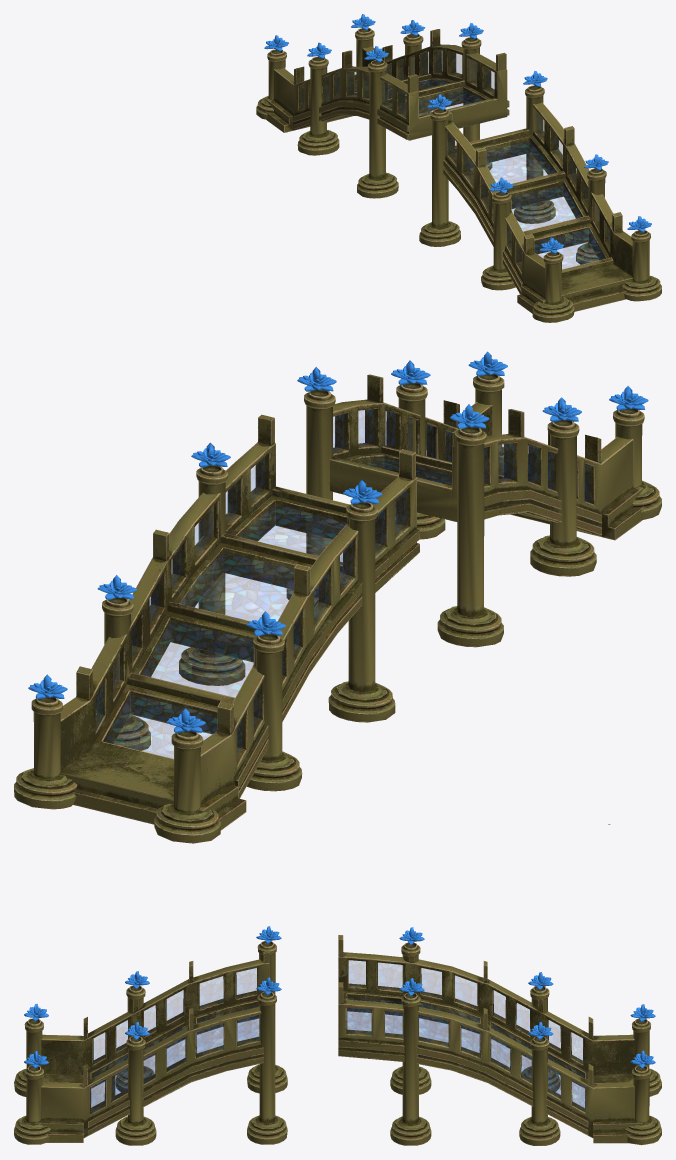
The model's file is bridgeBroken_lowPolyCompressed(GlassProblem).glb.
The picture shows the model from 3 angles, top to bottom: view 1: azimuth 30°, elevation 25°; view 2: azimuth 150°, elevation 25°; view 3: azimuth 270°, elevation 25°; orthographic projection. The views are drawn at different scales.
Visible parts, largest first — view 1: Mesh_168.001; view 2: Mesh_168.001; view 3: Mesh_168.001.
Boxes of the visible parts, x1=… form: Mesh_168.001: x1=256, y1=14, x2=661, y2=322; Mesh_168.001: x1=14, y1=351, x2=661, y2=843; Mesh_168.001: x1=14, y1=926, x2=661, y2=1145.
Bounding box in the file's own units: 3.75 × 1.39 × 5.14.
6 materials, 4 textured.
